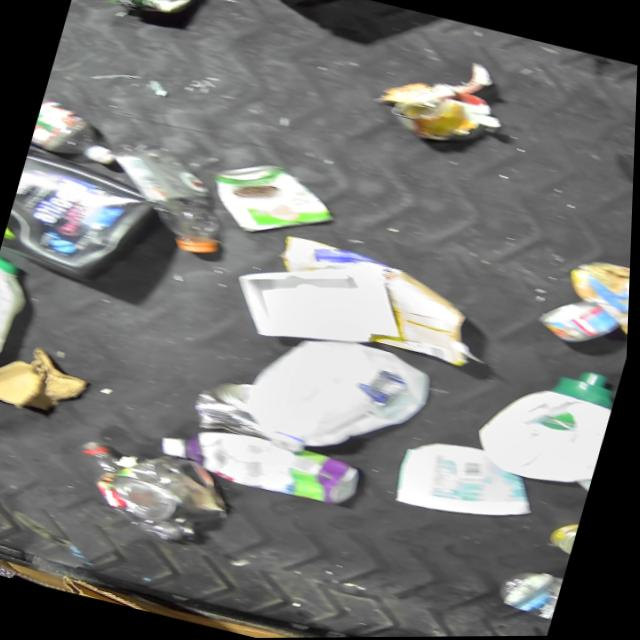can: (196, 149, 349, 255), (103, 442, 245, 541), (378, 72, 502, 158), (531, 288, 629, 357), (187, 371, 262, 441), (544, 515, 583, 557)
milk_jug: (234, 319, 443, 481), (468, 348, 623, 495), (0, 252, 41, 378)
non_white_jug: (0, 145, 173, 296)
plastic_bottle: (89, 132, 246, 260), (29, 93, 130, 169)
